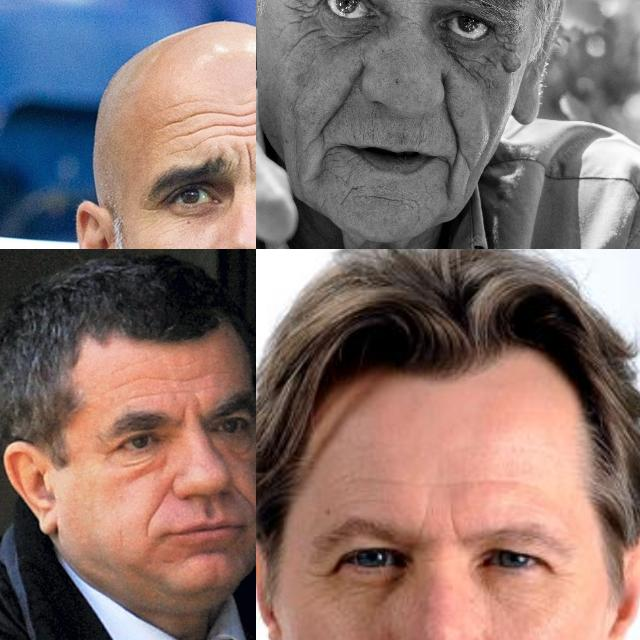chin: (368, 188, 420, 210), (338, 179, 359, 211)
crows_feet: (286, 0, 318, 34), (494, 23, 520, 52), (305, 566, 333, 584), (136, 202, 162, 218)
forehead: (160, 105, 233, 147), (342, 468, 428, 494), (446, 476, 544, 494), (150, 371, 220, 394), (108, 360, 140, 398)
frown_line: (411, 510, 459, 538), (174, 403, 192, 433), (242, 150, 254, 172)
gummy_smile: (322, 66, 362, 130), (438, 80, 464, 150), (148, 476, 172, 536), (230, 483, 256, 522)
sad_smile: (313, 145, 332, 181), (442, 163, 456, 201)
